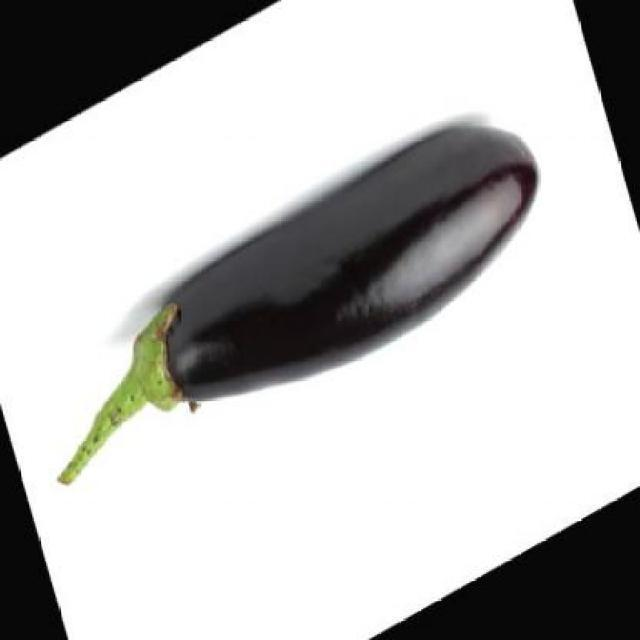eggplant: (23, 83, 560, 526)
